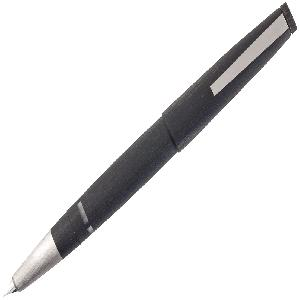pen: (4, 3, 299, 298)
